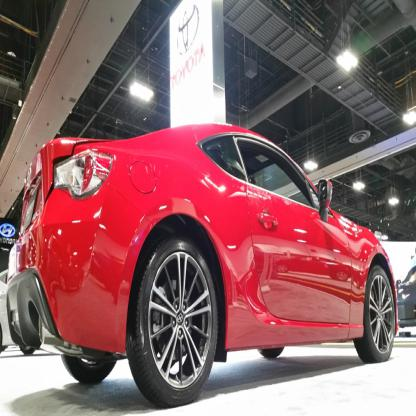Car: (6, 123, 400, 408), (0, 269, 19, 354), (395, 264, 415, 329)
